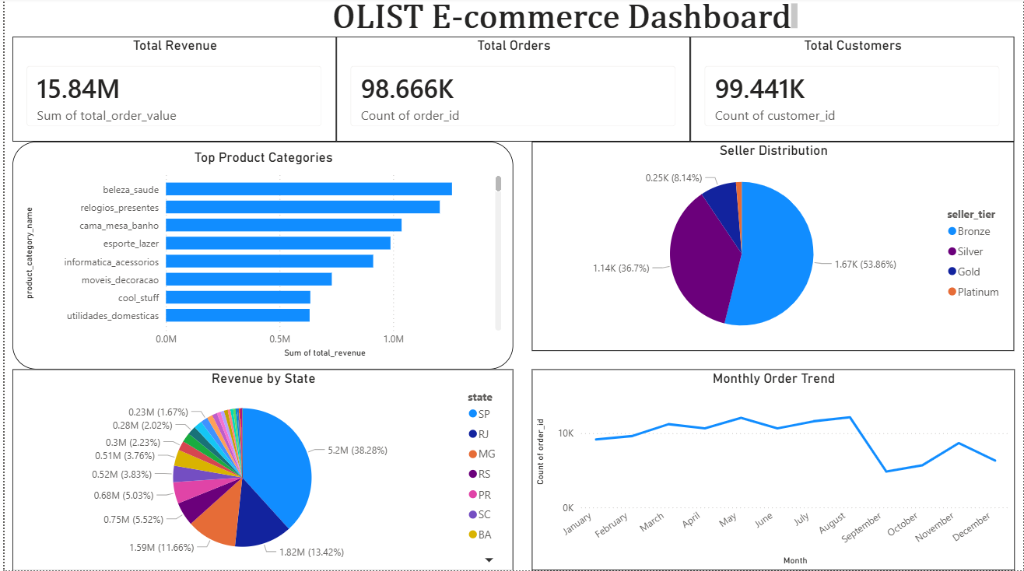

Layout of this report page (visuals, bound fields, positions):
{"tool":"powerbi","page":{"name":"Page 1","canvas":[1280,720],"ordinal":0},"visuals":[{"type":"cardVisual","title":"Total Revenue","fields":{"Data":["Sum(fct_orders.total_order_value)"]},"box":[9.8,48.9,407.2,132.1],"z":0},{"type":"cardVisual","title":"\tTotal Orders","fields":{"Data":["Count(fct_orders.order_id)"]},"box":[417,48.9,445.1,132.1],"z":1000},{"type":"cardVisual","title":"\tTotal Customers","fields":{"Data":["Count(dim_customers.customer_id)"]},"box":[862.1,48.9,407.2,132.1],"z":2000},{"type":"clusteredBarChart","title":"\tTop Product Categories","fields":{"Category":["dim_products.product_category_name"],"Y":["Sum(dim_products.total_revenue)"]},"box":[9.8,181,629.8,286.1],"z":3000},{"type":"pieChart","title":"Revenue by State ","fields":{"Category":["dim_customers.state"],"Y":["Sum(dim_customers.lifetime_value)"]},"box":[9.6,466.6,629.8,253.9],"z":4000},{"type":"pieChart","title":"\tSeller Distribution","fields":{"Category":["dim_sellers.seller_tier"],"Y":["CountNonNull(dim_sellers.seller_id)"]},"box":[662.8,181.1,606.5,263.5],"z":5000},{"type":"lineChart","title":"Monthly Order Trend","fields":{"Category":["fct_orders.order_purchase_timestamp.Variation.Date Hierarchy.Month"],"Y":["CountNonNull(fct_orders.order_id)"]},"box":[663,467,607,253],"z":6000},{"type":"textbox","box":[277.6,0,723.9,48.9],"z":7000}]}

Visuals, with their boxes in screenshot pixels (x1, y1, x2, y2), scaled from the page's 1280x720 canvas onto the 1024x571 screenshot:
"Total Revenue" cardVisual: {"x1": 8, "y1": 39, "x2": 334, "y2": 144}
"	Total Orders" cardVisual: {"x1": 334, "y1": 39, "x2": 690, "y2": 144}
"	Total Customers" cardVisual: {"x1": 690, "y1": 39, "x2": 1015, "y2": 144}
"	Top Product Categories" clusteredBarChart: {"x1": 8, "y1": 144, "x2": 512, "y2": 370}
"Revenue by State " pieChart: {"x1": 8, "y1": 370, "x2": 512, "y2": 570}
"	Seller Distribution" pieChart: {"x1": 530, "y1": 144, "x2": 1015, "y2": 353}
"Monthly Order Trend" lineChart: {"x1": 530, "y1": 370, "x2": 1016, "y2": 570}
textbox: {"x1": 222, "y1": 0, "x2": 801, "y2": 39}
